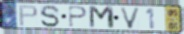1: (146, 8, 157, 30)
M: (88, 5, 117, 30)
P: (18, 4, 40, 27), (68, 5, 89, 29)
S: (39, 4, 61, 28)
V: (118, 6, 142, 29)
